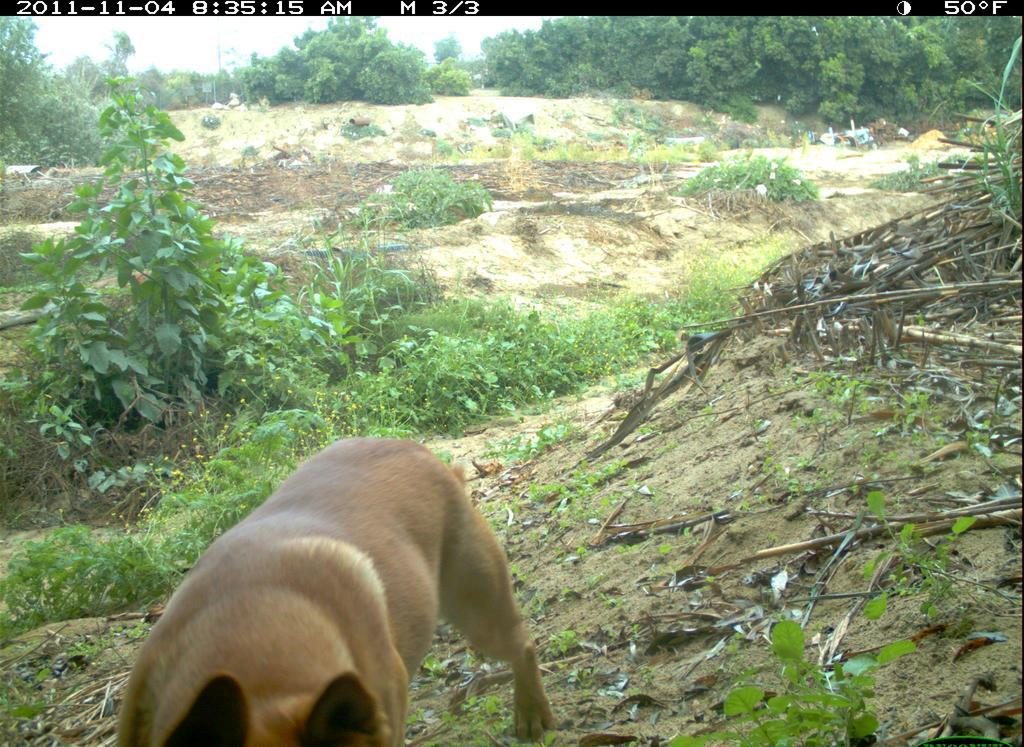dog: (118, 423, 551, 740)
